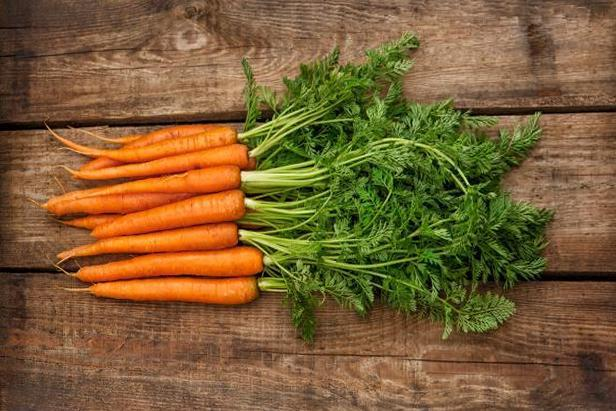carrot: (41, 126, 260, 314), (38, 182, 256, 253), (63, 256, 259, 308), (97, 134, 254, 187)
